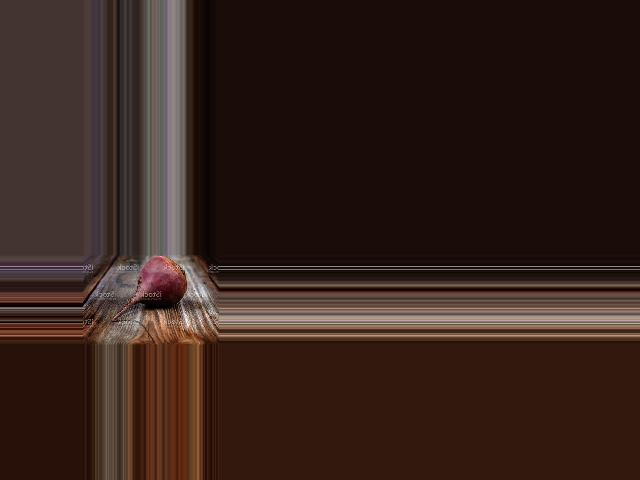beet: (111, 256, 186, 321)
